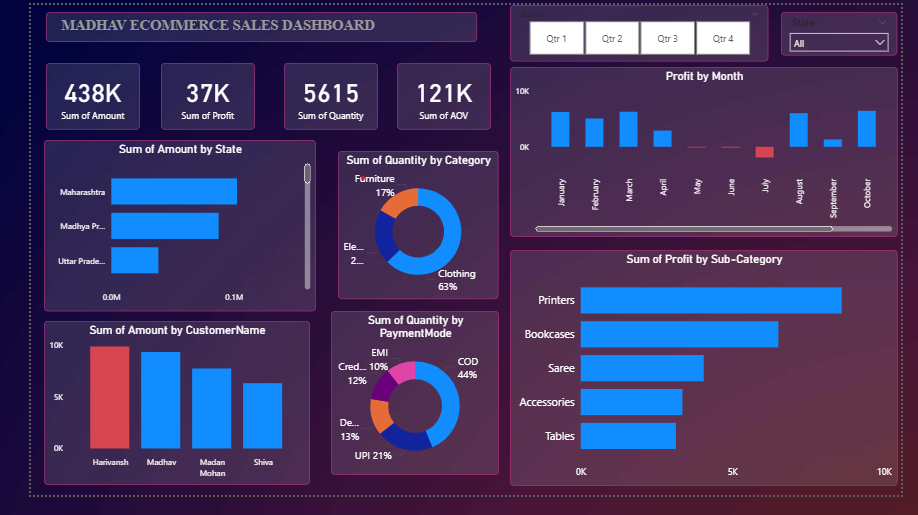

This screenshot's page, from the dashboard's own definition file:
{"tool":"powerbi","page":{"name":"Page 1","canvas":[1280,720],"ordinal":0},"visuals":[{"type":"textbox","box":[22,10.2,633.7,43.9],"z":0},{"type":"columnChart","title":" Profit by Month","fields":{"Category":["Orders.Order Date.Variation.Date Hierarchy.Month"],"Y":["Sum(Details.Profit)"]},"box":[703.9,90.7,570,250],"z":1000},{"type":"barChart","fields":{"Category":["Details.Sub-Category"],"Y":["Sum(Details.Profit)"]},"box":[703.9,360,570,347],"z":2000},{"type":"donutChart","fields":{"Category":["Details.Category"],"Y":["Sum(Details.Quantity)"]},"box":[452.2,215.1,235.6,218],"z":3000},{"type":"donutChart","fields":{"Category":["Details.PaymentMode"],"Y":["Sum(Details.Quantity)"]},"box":[440.5,450.7,247.3,241.5],"z":4000},{"type":"card","fields":{"Values":["Sum(Details.Amount)"]},"box":[22,84.9,137.6,98],"z":5000},{"type":"card","fields":{"Values":["Sum(Details.Profit)"]},"box":[191.7,84.9,137.6,98],"z":6000},{"type":"card","fields":{"Values":["Sum(Details.Quantity)"]},"box":[371.7,84.9,137.6,98],"z":7000},{"type":"card","fields":{"Values":["Sum(Details.AOV)"]},"box":[538.5,84.9,137.6,98],"z":8000},{"type":"barChart","fields":{"Category":["Orders.State"],"Y":["Sum(Details.Amount)"]},"box":[19,199,399.5,251.7],"z":9000},{"type":"columnChart","fields":{"Category":["Orders.CustomerName"],"Y":["Sum(Details.Amount)"]},"box":[19,465.4,390.7,241.5],"z":10000},{"type":"slicer","fields":{"Values":["Orders.Order Date.Variation.Date Hierarchy.Quarter"]},"box":[703.9,0,380.5,83.4],"z":11000},{"type":"slicer","fields":{"Values":["Orders.State"]},"box":[1109.3,0,171.2,64.4],"z":12000}]}

Visuals, with their boxes in screenshot pixels (x1, y1, x2, y2), scaled from the page's 1280x720 canvas onto the 918x515 screenshot:
textbox: rect(16, 7, 470, 39)
" Profit by Month" columnChart: rect(505, 65, 914, 244)
barChart - Details.Sub-Category x Sum(Details.Profit): rect(505, 258, 914, 506)
donutChart - Details.Category x Sum(Details.Quantity): rect(324, 154, 493, 310)
donutChart - Details.PaymentMode x Sum(Details.Quantity): rect(316, 322, 493, 495)
card - Sum(Details.Amount): rect(16, 61, 114, 131)
card - Sum(Details.Profit): rect(137, 61, 236, 131)
card - Sum(Details.Quantity): rect(267, 61, 365, 131)
card - Sum(Details.AOV): rect(386, 61, 485, 131)
barChart - Orders.State x Sum(Details.Amount): rect(14, 142, 300, 322)
columnChart - Orders.CustomerName x Sum(Details.Amount): rect(14, 333, 294, 506)
slicer - Orders.Order Date.Variation.Date Hierarchy.Quarter: rect(505, 0, 778, 60)
slicer - Orders.State: rect(796, 0, 917, 46)
